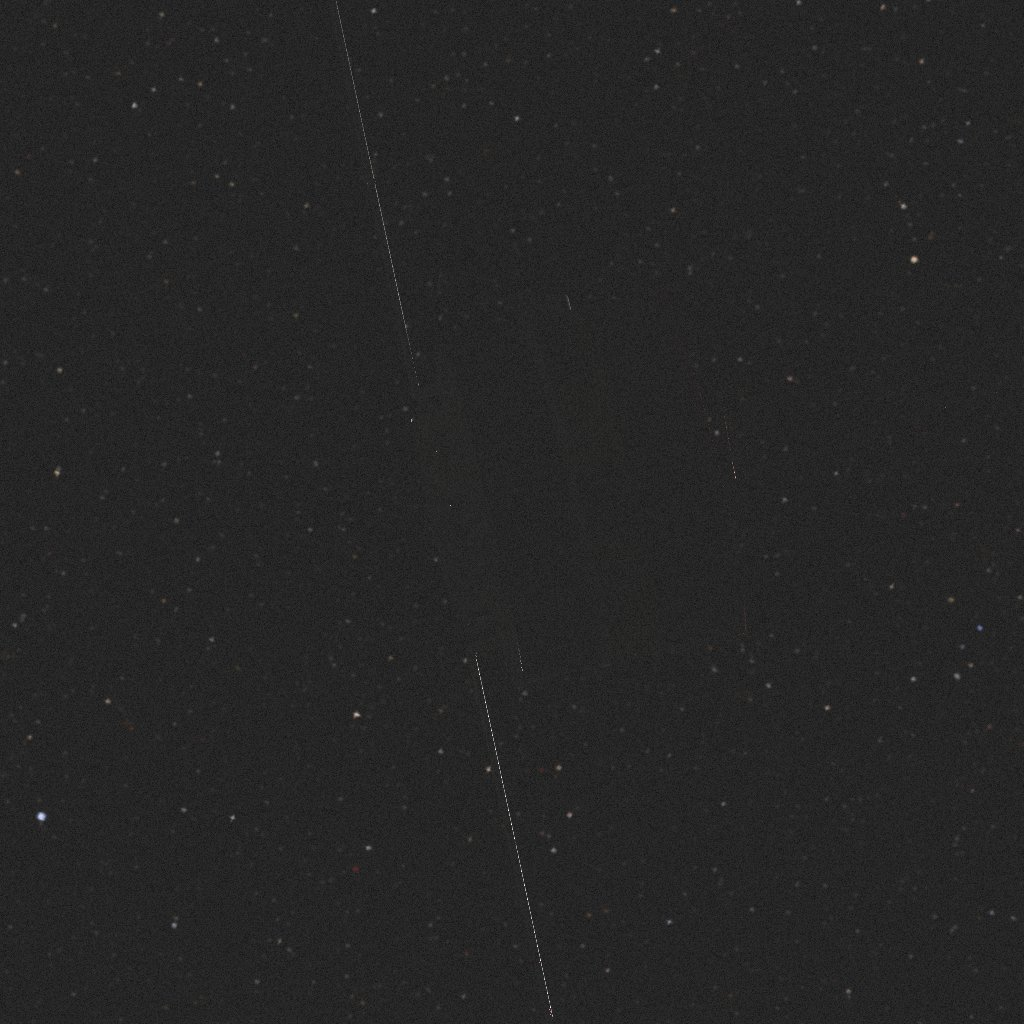double_star: (301, 16, 776, 1013)
